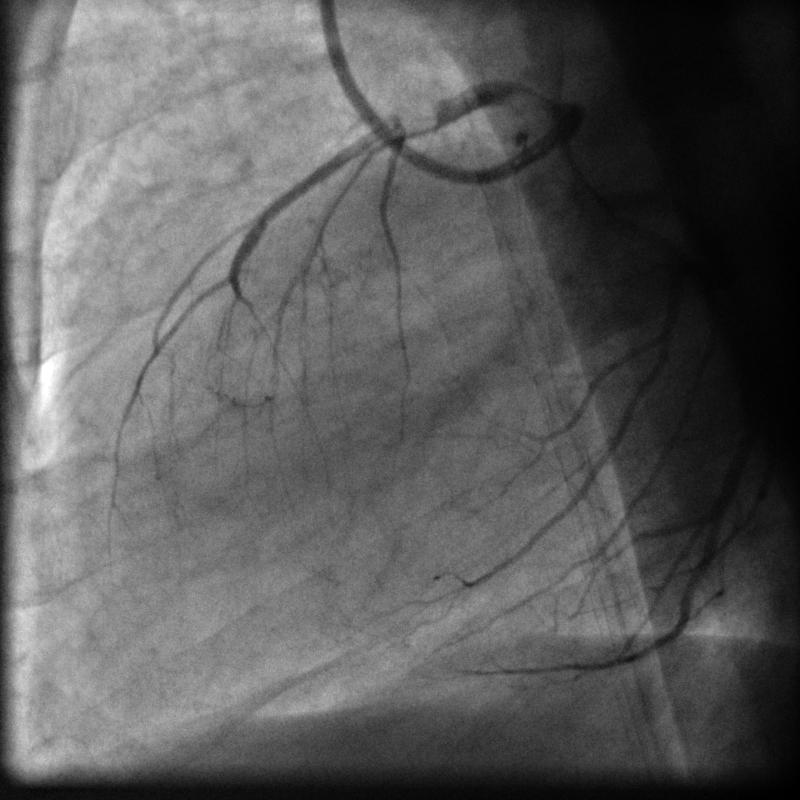Stenosis: (389, 100, 445, 142)
